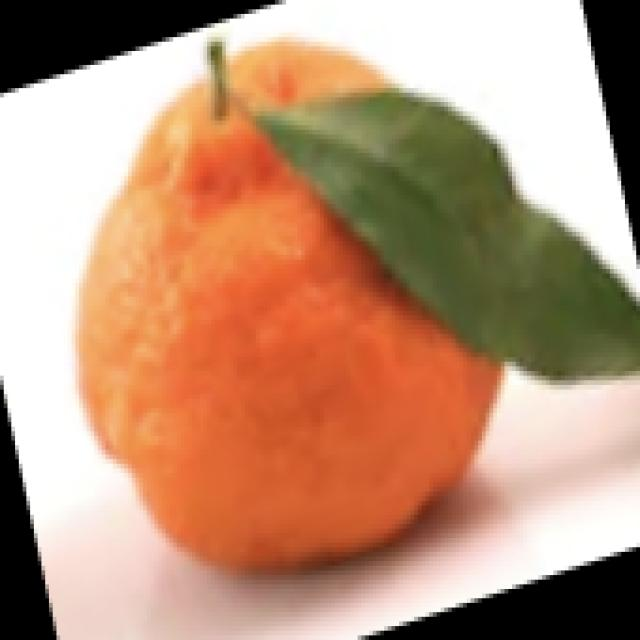matang: (75, 46, 509, 564)
